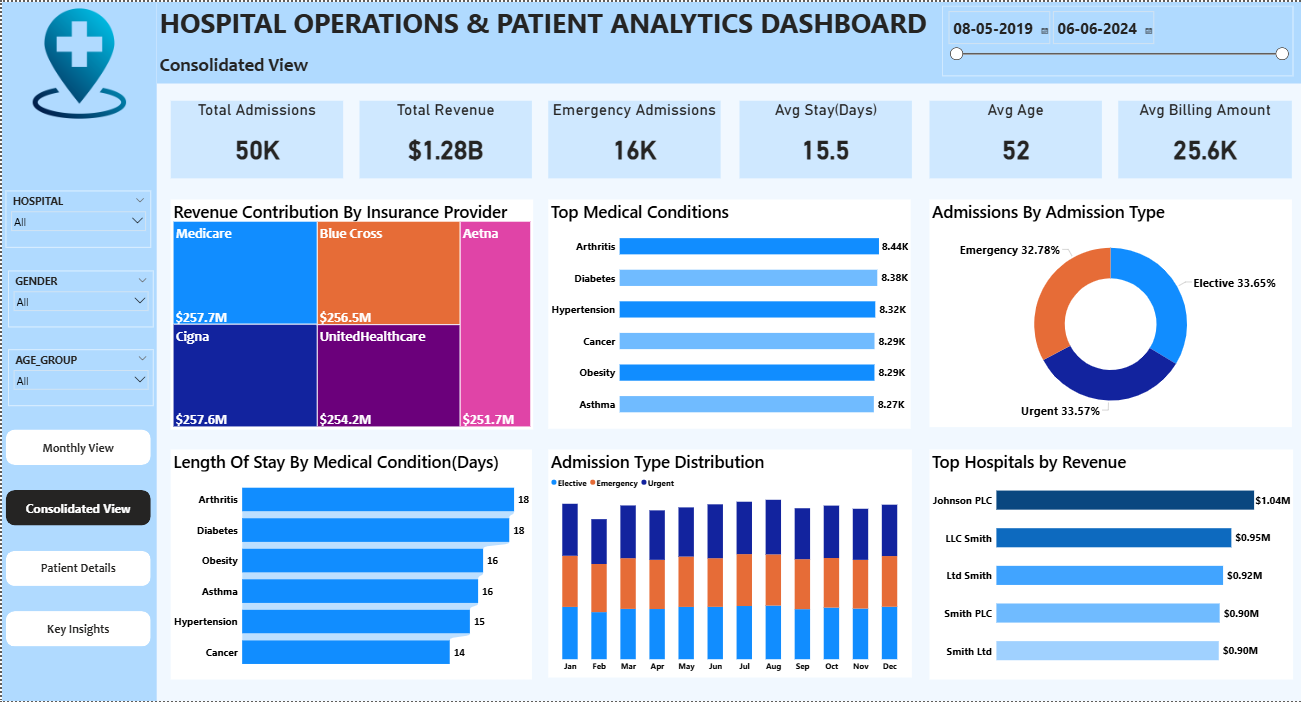

The page's visual inventory and layout, read from the dashboard file:
{"tool":"powerbi","page":{"name":"Consolidated View","canvas":[2600,1400],"ordinal":1},"visuals":[{"type":"shape","box":[0,0,309.4,1700.6],"z":0},{"type":"shape","box":[310,0,2290.5,163],"z":1000},{"type":"textbox","box":[310,0,1699.8,98.9],"z":2000},{"type":"textbox","box":[309.6,98.2,390.2,65.5],"z":3000},{"type":"card","title":"Total Admissions","fields":{"Values":["MEASURE Table.TOTAL PATIENTS"]},"box":[337.8,197.1,344.8,154.8],"z":4000},{"type":"card","title":"Total Revenue","fields":{"Values":["MEASURE Table.Total Revenue Display"]},"box":[715.5,197.1,344.8,154.8],"z":5000},{"type":"card","title":"Emergency Admissions","fields":{"Values":["MEASURE Table.EMERGENCY ADMISSIONS"]},"box":[1092.6,197.1,344.8,154.8],"z":6000},{"type":"card","title":"Avg Stay(Days)","fields":{"Values":["MEASURE Table.AVG STAY"]},"box":[1475.5,197.1,344.8,154.8],"z":7000},{"type":"card","title":"Avg Age","fields":{"Values":["MEASURE Table.AVG AGE"]},"box":[1855.6,197.1,344.8,154.8],"z":8000},{"type":"treemap","title":"Revenue Contribution By Insurance Provider","fields":{"Values":["MEASURE Table.TOTAL REVENUE"],"Group":["HEALTHCAREANALYSIS.INSURANCE_PROVIDER"]},"box":[337.8,394.1,724.9,459.8],"z":9000},{"type":"barChart","title":"Length Of Stay By Medical Condition(Days)","fields":{"Category":["HEALTHCAREANALYSIS.MEDICAL_CONDITION"],"Y":["MEASURE Table.AVG STAY"]},"box":[337.8,896.1,722.5,459.8],"z":10000},{"type":"columnChart","title":"Admission Type Distribution","fields":{"Category":["DATE TABLE.MONTH"],"Series":["HEALTHCAREANALYSIS.ADMISSION_TYPE"],"Y":["MEASURE Table.TOTAL PATIENTS"]},"box":[1092.6,896.2,727.5,455.7],"z":11000},{"type":"barChart","title":"Top Hospitals by Revenue","fields":{"Category":["HEALTHCAREANALYSIS.HOSPITAL"],"Y":["MEASURE Table.TOTAL REVENUE"]},"box":[1855.6,896.1,727.2,459.8],"z":12000},{"type":"card","title":"Avg Billing Amount","fields":{"Values":["MEASURE Table.AVG REVENUE"]},"box":[2233.3,197.1,347.2,154.8],"z":13000},{"type":"donutChart","title":"Admissions By Admission Type","fields":{"Y":["MEASURE Table.TOTAL PATIENTS"],"Category":["HEALTHCAREANALYSIS.ADMISSION_TYPE"]},"box":[1855.6,394.1,724.9,455.1],"z":14000},{"type":"barChart","title":"Top Medical Conditions","fields":{"Category":["HEALTHCAREANALYSIS.MEDICAL_CONDITION"],"Y":["MEASURE Table.TOTAL PATIENTS"]},"box":[1092.6,395.2,725,458.2],"z":15000},{"type":"slicer","fields":{"Values":["HEALTHCAREANALYSIS.HOSPITAL"]},"box":[7.1,376.9,290.5,113.4],"z":16000},{"type":"slicer","fields":{"Values":["HEALTHCAREANALYSIS.AGE_GROUP"]},"box":[11.8,695.8,290.5,113],"z":17000},{"type":"slicer","fields":{"Values":["HEALTHCAREANALYSIS.GENDER"]},"box":[11.8,536.5,290.5,113],"z":18000},{"type":"pageNavigator","title":"Menu","box":[7.1,855,290.5,437],"z":19000},{"type":"slicer","fields":{"Values":["DATE TABLE.Date"]},"box":[1880.5,7.6,702.4,141],"z":20000},{"type":"image","box":[0,7.6,309.6,231.6],"z":21000}]}

Visuals, with their boxes in screenshot pixels (x1, y1, x2, y2), scaled from the page's 2600x1400 canvas onto the 1301x702 screenshot:
shape: bbox(0, 0, 155, 701)
shape: bbox(155, 0, 1300, 82)
textbox: bbox(155, 0, 1006, 50)
textbox: bbox(155, 49, 350, 82)
"Total Admissions" card: bbox(169, 99, 342, 176)
"Total Revenue" card: bbox(358, 99, 531, 176)
"Emergency Admissions" card: bbox(547, 99, 719, 176)
"Avg Stay(Days)" card: bbox(738, 99, 911, 176)
"Avg Age" card: bbox(929, 99, 1101, 176)
"Revenue Contribution By Insurance Provider" treemap: bbox(169, 198, 532, 428)
"Length Of Stay By Medical Condition(Days)" barChart: bbox(169, 449, 531, 680)
"Admission Type Distribution" columnChart: bbox(547, 449, 911, 678)
"Top Hospitals by Revenue" barChart: bbox(929, 449, 1292, 680)
"Avg Billing Amount" card: bbox(1118, 99, 1291, 176)
"Admissions By Admission Type" donutChart: bbox(929, 198, 1291, 426)
"Top Medical Conditions" barChart: bbox(547, 198, 909, 428)
slicer - HEALTHCAREANALYSIS.HOSPITAL: bbox(4, 189, 149, 246)
slicer - HEALTHCAREANALYSIS.AGE_GROUP: bbox(6, 349, 151, 406)
slicer - HEALTHCAREANALYSIS.GENDER: bbox(6, 269, 151, 326)
"Menu" pageNavigator: bbox(4, 429, 149, 648)
slicer - DATE TABLE.Date: bbox(941, 4, 1292, 75)
image: bbox(0, 4, 155, 120)
